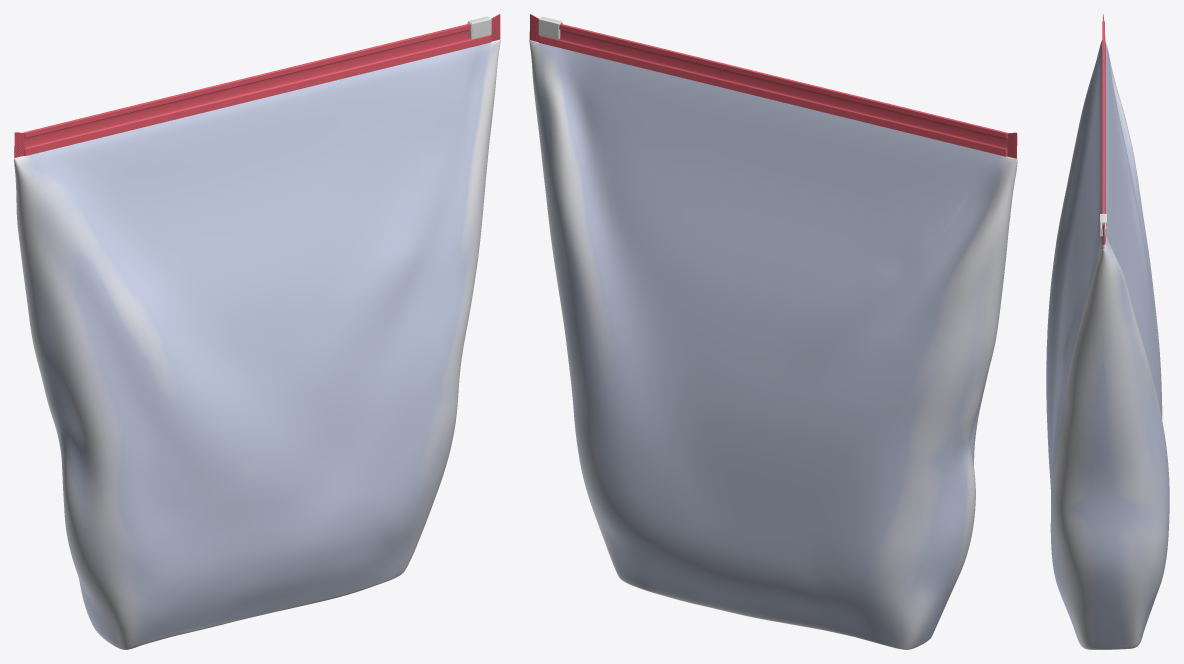
Rendered from bag.glb.
The picture shows the model from 3 angles, left to right: view 1: azimuth 30°, elevation 25°; view 2: azimuth 150°, elevation 25°; view 3: azimuth 270°, elevation 25°; orthographic projection. The views are drawn at different scales.
Parts seen in each view (by area): view 1: Bag, Zipper; view 2: Bag, Zipper; view 3: Bag, Zipper.
Boxes of the visible parts, <box> form: Bag: <box>14,39,500,649</box>; Zipper: <box>14,14,500,157</box>; Bag: <box>529,40,1017,649</box>; Zipper: <box>529,14,1017,158</box>; Bag: <box>1046,40,1169,649</box>; Zipper: <box>1100,14,1107,248</box>.
Bounding box in the file's own units: 0.1297 × 0.1356 × 0.0318.
1 material, 1 textured.
